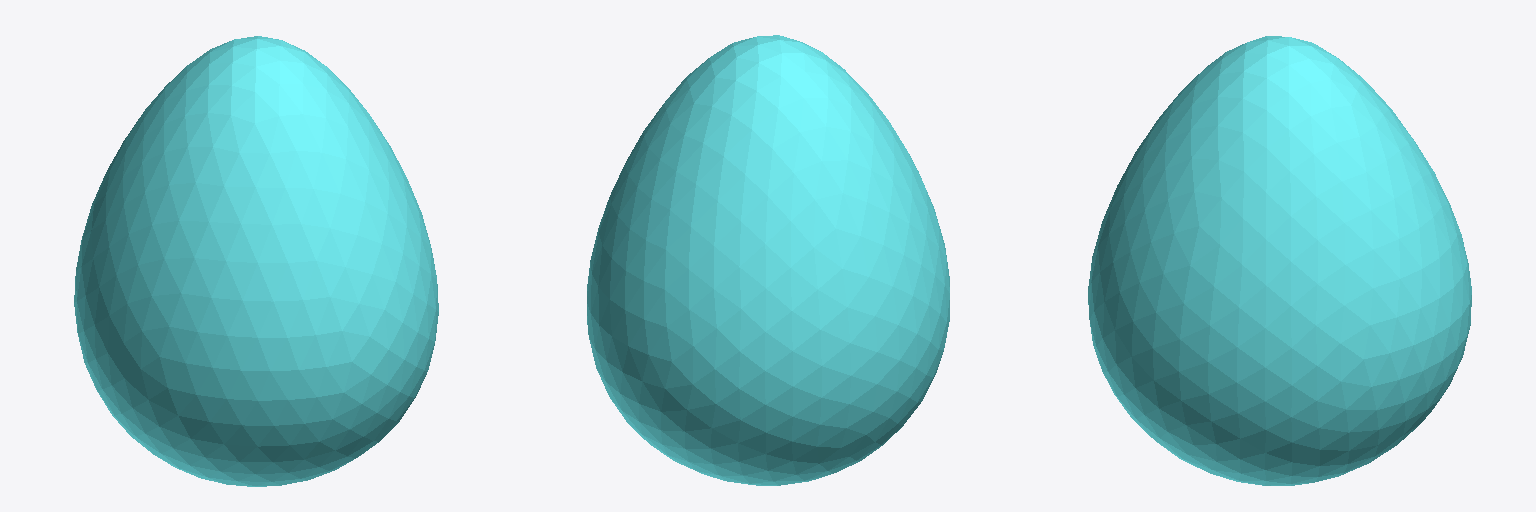
Rendered from balloonGreen.obj.
The picture shows the model from 3 angles: view 1: azimuth 30°, elevation 25°; view 2: azimuth 150°, elevation 25°; view 3: azimuth 270°, elevation 25°; orthographic projection.
Visible parts, largest first — view 1: selected_model.osgt_GeoSphere01_Geometry_0; view 2: selected_model.osgt_GeoSphere01_Geometry_0; view 3: selected_model.osgt_GeoSphere01_Geometry_0.
Part boxes in pixels (left/top/right/bottom): selected_model.osgt_GeoSphere01_Geometry_0: left=74, top=36, right=438, bottom=486; selected_model.osgt_GeoSphere01_Geometry_0: left=587, top=35, right=949, bottom=485; selected_model.osgt_GeoSphere01_Geometry_0: left=1088, top=36, right=1471, bottom=485.
Size of the model in its own units: 98.45 by 129 by 105.